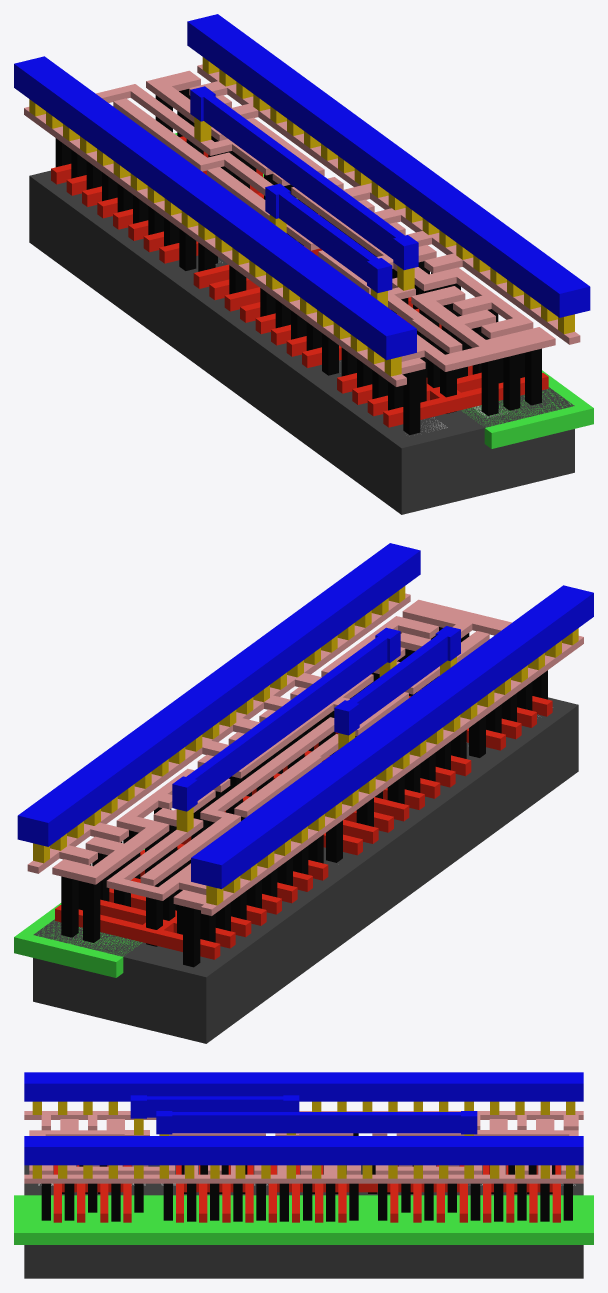
File: sky130_fd_sc_hd__xor2_4.obj
3 views of the same model, one above another, from view 1: azimuth 30°, elevation 25°; view 2: azimuth 150°, elevation 25°; view 3: azimuth 270°, elevation 25° (orthographic). The views are drawn at different scales.
Parts seen in each view (by area): view 1: metal1, subs, li, licon, poly, mcon, nwell; view 2: metal1, subs, li, licon, poly, mcon, nwell; view 3: metal1, subs, nwell, li, licon, poly, mcon.
Part boxes in pixels (bbox=[...]): metal1: bbox=[14, 14, 590, 360]; subs: bbox=[29, 170, 574, 514]; li: bbox=[24, 64, 580, 386]; licon: bbox=[55, 89, 541, 434]; poly: bbox=[51, 136, 548, 427]; mcon: bbox=[29, 57, 574, 376]; nwell: bbox=[174, 133, 593, 448]; metal1: bbox=[17, 543, 593, 889]; subs: bbox=[33, 697, 578, 1043]; li: bbox=[27, 593, 583, 915]; licon: bbox=[61, 627, 547, 967]; poly: bbox=[55, 675, 552, 959]; mcon: bbox=[33, 586, 578, 905]; nwell: bbox=[14, 849, 144, 977]; metal1: bbox=[24, 1072, 583, 1165]; subs: bbox=[24, 1165, 583, 1278]; nwell: bbox=[14, 1195, 593, 1244]; li: bbox=[24, 1111, 583, 1183]; licon: bbox=[41, 1133, 572, 1221]; poly: bbox=[53, 1165, 560, 1222]; mcon: bbox=[32, 1101, 575, 1178].
Bounding box in the file's own units: 3.2 × 2.74 × 10.5.
